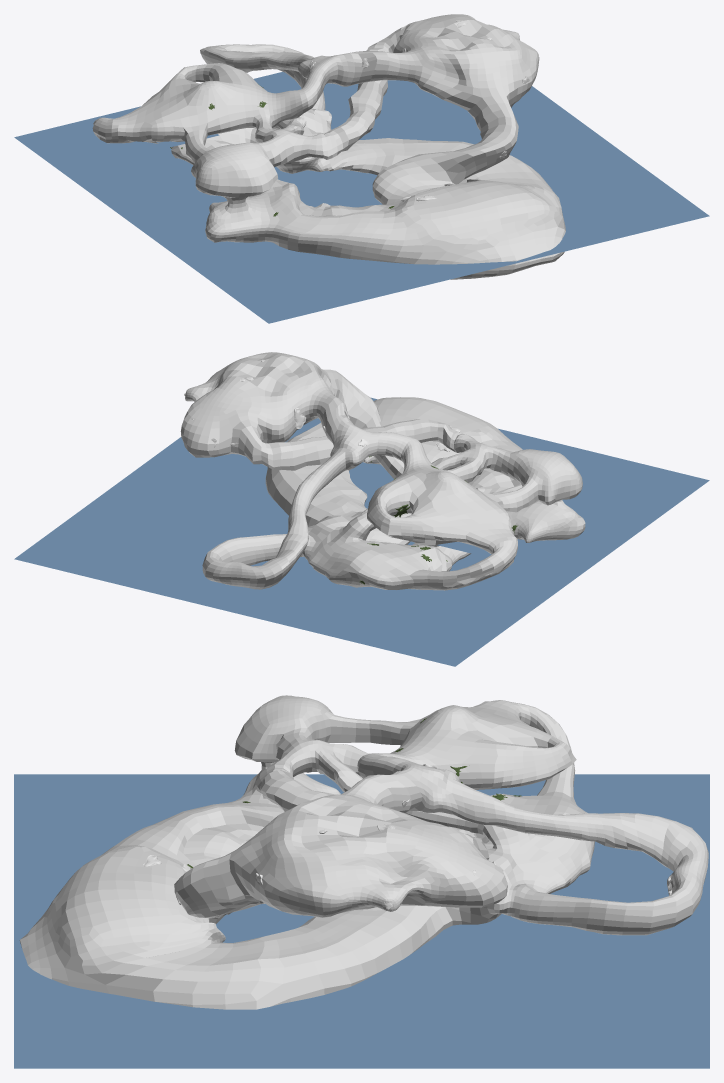
File: Cave.fbx
3 views of the same model, one above another, from view 1: azimuth 30°, elevation 25°; view 2: azimuth 150°, elevation 25°; view 3: azimuth 270°, elevation 25° (orthographic). The views are drawn at different scales.
Visible parts, largest first — view 1: CaveMap, Water Level; view 2: CaveMap, Water Level; view 3: CaveMap, Water Level.
Part boxes in pixels (x1,y1,x2,y2): CaveMap: (92,14,565,279); Water Level: (14,72,709,323); CaveMap: (180,352,585,590); Water Level: (14,397,709,666); CaveMap: (19,695,708,1009); Water Level: (14,774,709,1068).
Size of the model in its own units: 23767 by 7782 by 23767.
